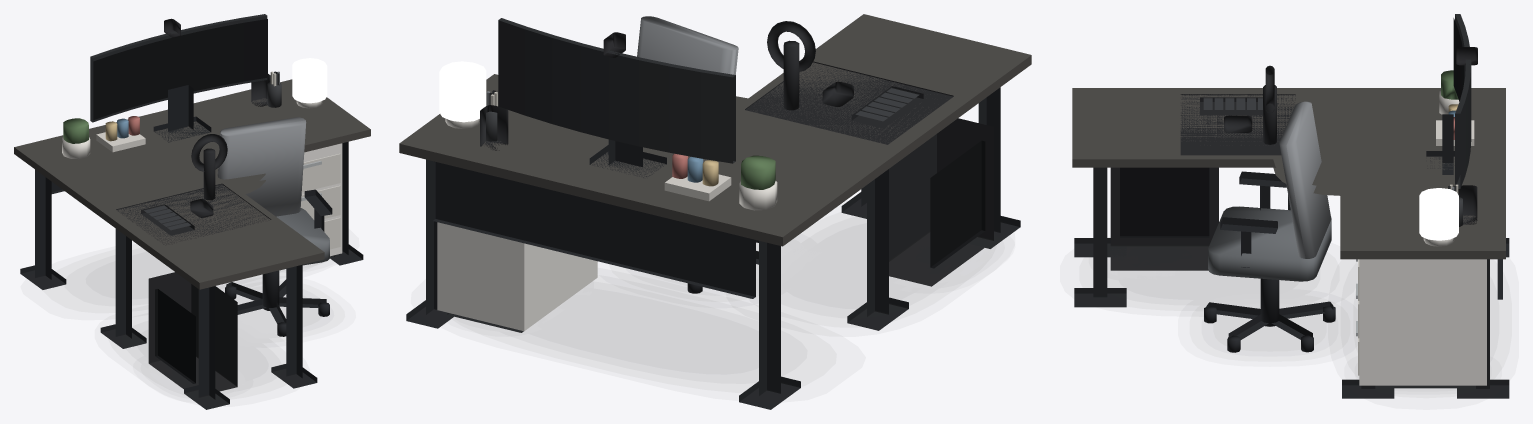
File: office_desks.glb
The picture shows the model from 3 angles, left to right: view 1: azimuth 30°, elevation 25°; view 2: azimuth 150°, elevation 25°; view 3: azimuth 270°, elevation 25°; orthographic projection. The views are drawn at different scales.
Parts seen in each view (by area): view 1: root; view 2: root; view 3: root.
Boxes of the visible parts, left/top/right/bottom form: root: left=14, top=14, right=370, bottom=409; root: left=399, top=14, right=1031, bottom=409; root: left=1072, top=14, right=1509, bottom=398.
Size of the model in its own units: 2.01 by 1.43 by 2.19.
